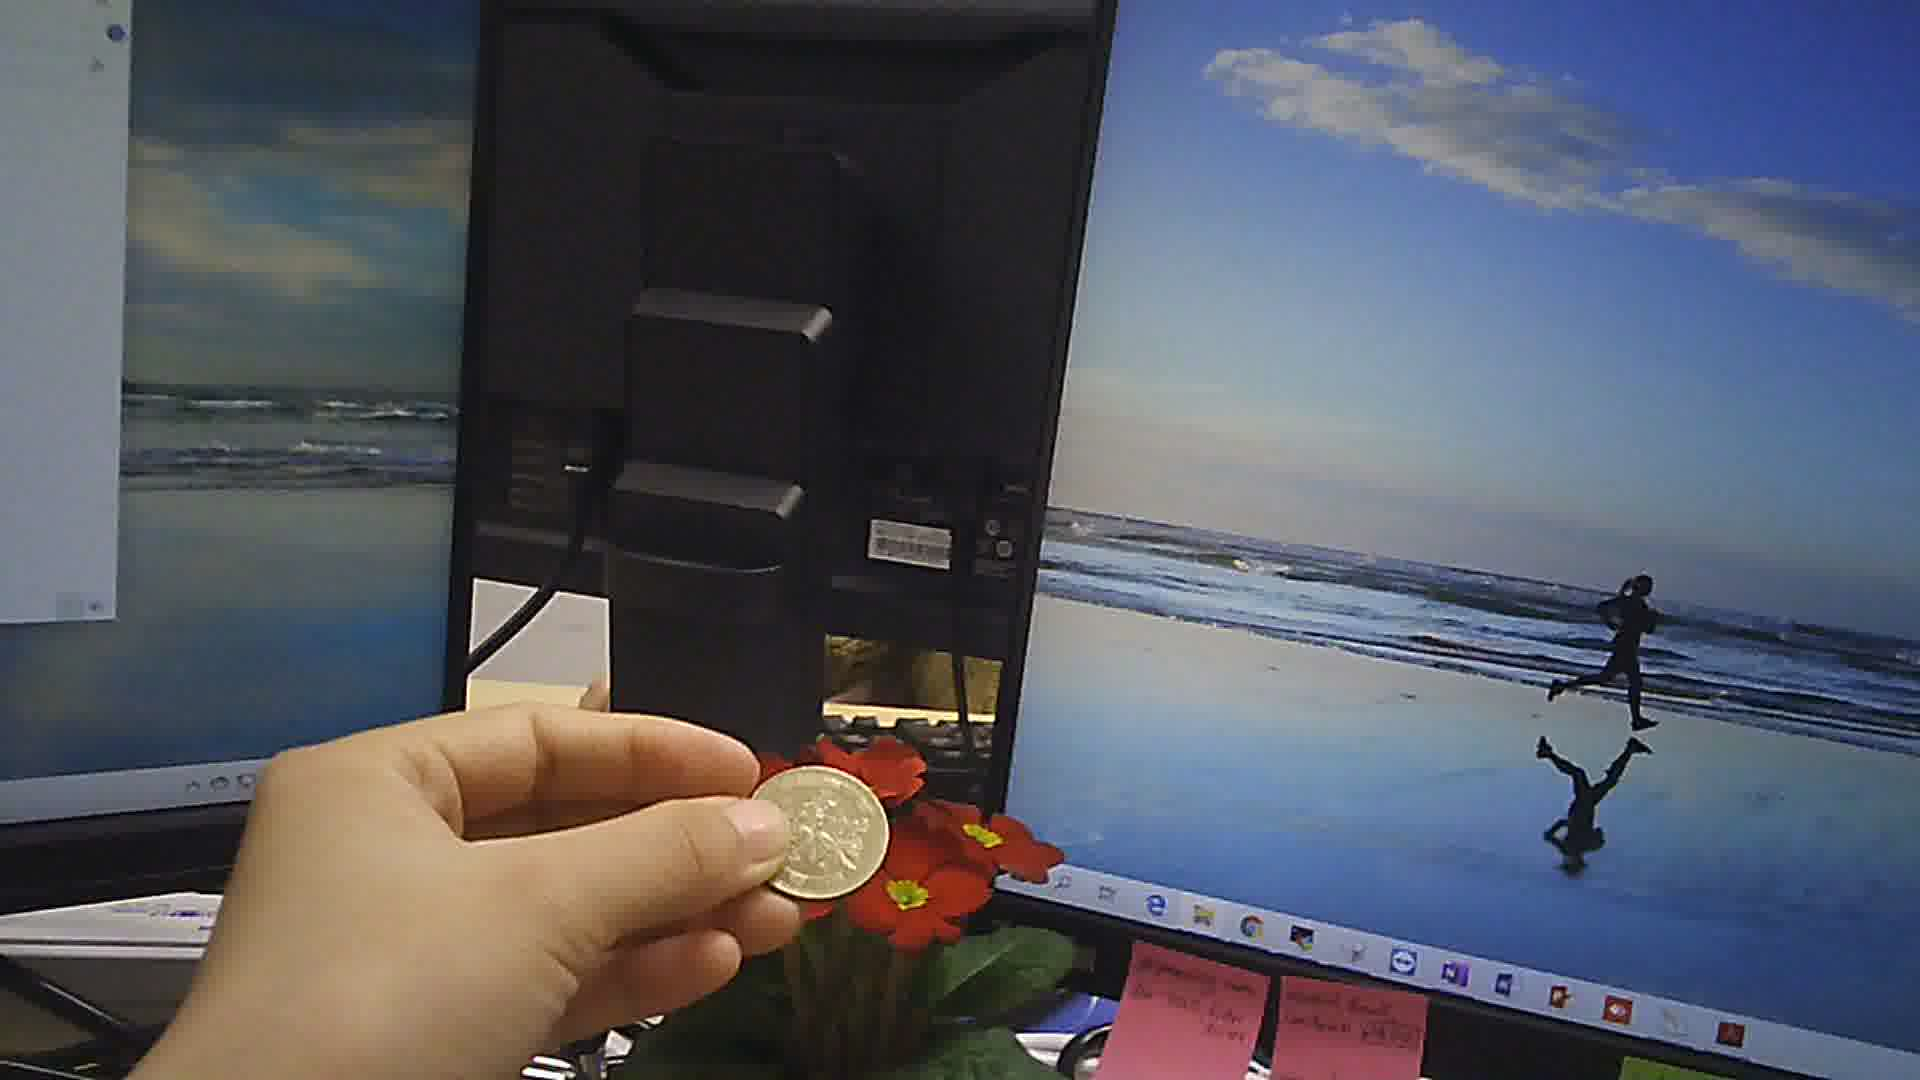500 Yen: (733, 758, 893, 902)
